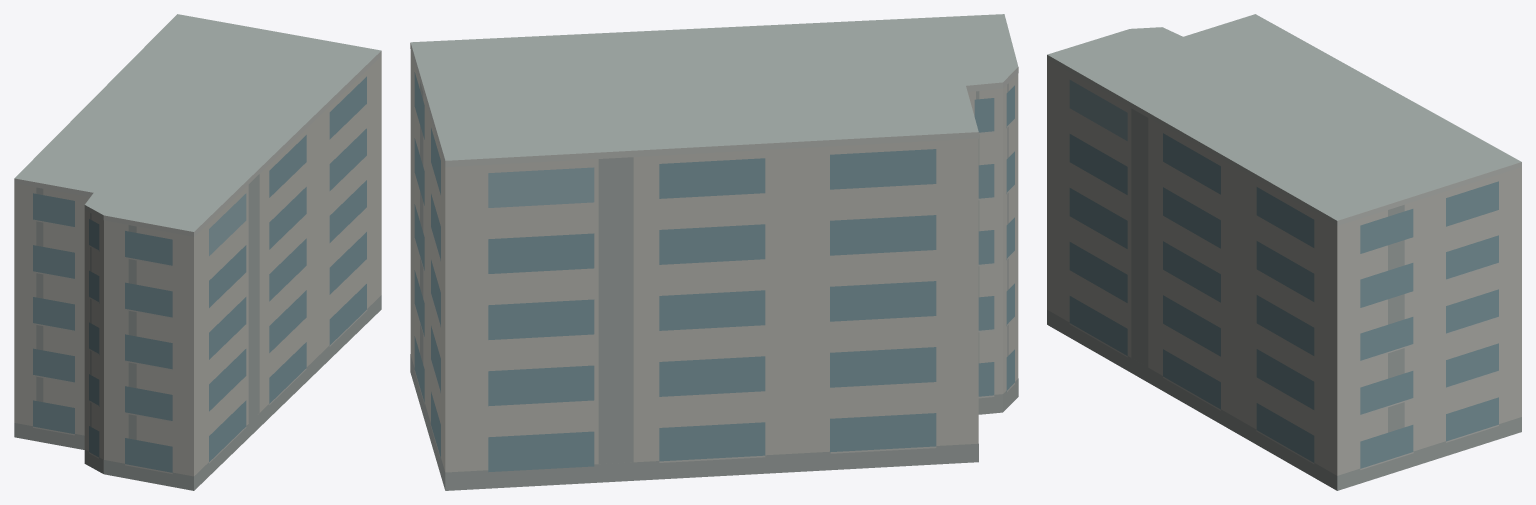
The model's file is residential-40718dd7-4419-492b-9442-762d7e4131c4.glb.
3 renders of one model, left to right at view 1: azimuth 30°, elevation 25°; view 2: azimuth 150°, elevation 25°; view 3: azimuth 270°, elevation 25°, orthographic. The views are drawn at different scales.
Parts seen in each view (by area): view 1: residential-40718dd7-4419-492b-9442-762d7e4131c4.tmp; view 2: residential-40718dd7-4419-492b-9442-762d7e4131c4.tmp; view 3: residential-40718dd7-4419-492b-9442-762d7e4131c4.tmp.
Part boxes in pixels (left/top/right/bottom): residential-40718dd7-4419-492b-9442-762d7e4131c4.tmp: left=14, top=14, right=381, bottom=490; residential-40718dd7-4419-492b-9442-762d7e4131c4.tmp: left=410, top=14, right=1018, bottom=490; residential-40718dd7-4419-492b-9442-762d7e4131c4.tmp: left=1047, top=14, right=1521, bottom=490.
Bounding box in the file's own units: 20.38 × 12.4 × 19.77.
